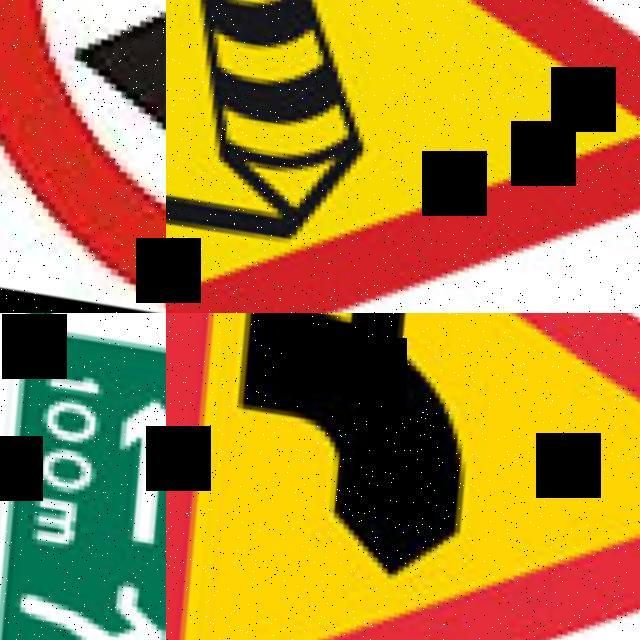129: (0, 313, 166, 640)
155: (166, 0, 640, 313)
166: (166, 313, 640, 640)
No vehicles in both directions: (0, 0, 166, 313)
